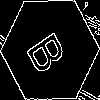B: (25, 25, 75, 77)
